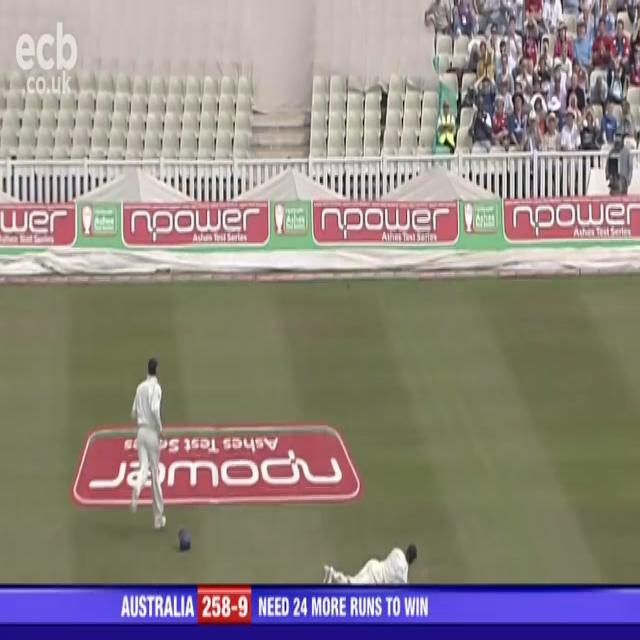ball: (342, 280, 355, 292)
